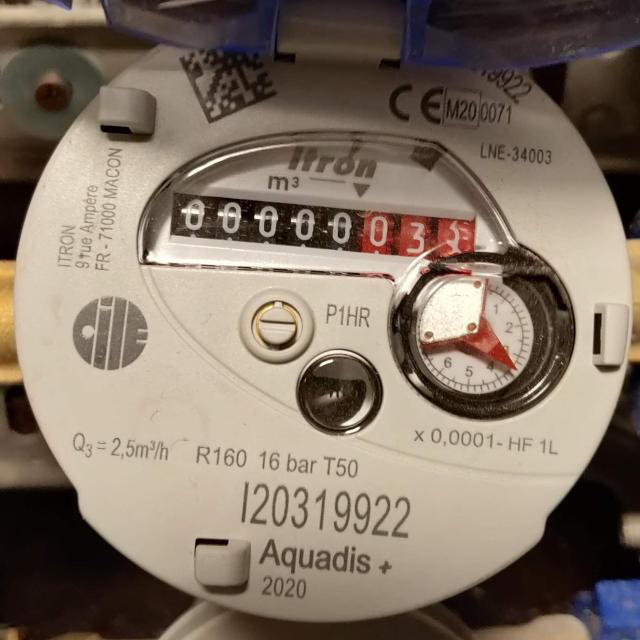gaz_meter: (13, 0, 632, 618)
indication: (167, 187, 476, 261)
